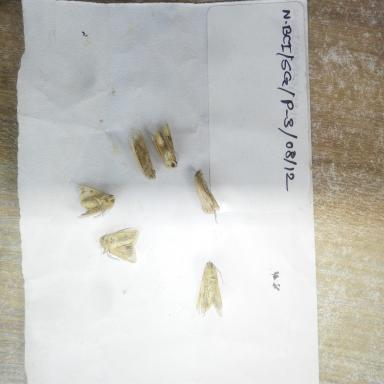abw: (192, 256, 226, 323), (189, 164, 224, 228), (96, 222, 142, 268), (71, 180, 120, 223), (122, 125, 158, 182), (146, 118, 181, 170)
